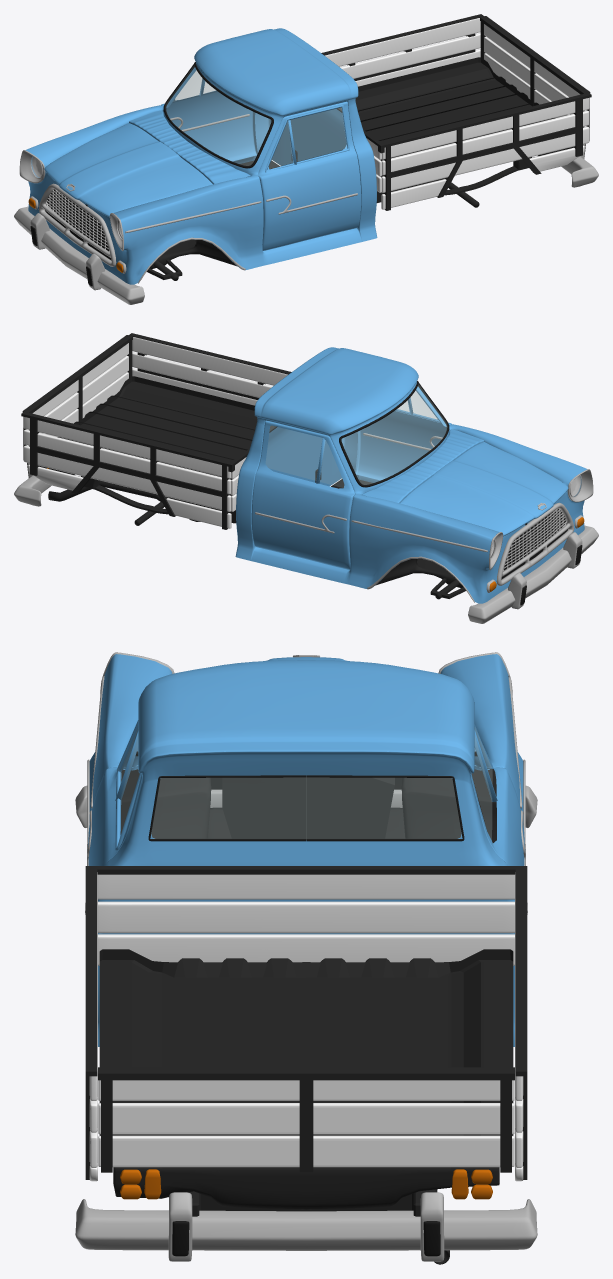
The model's file is Rastrojero03.glb.
3 views of the same model, one above another, from view 1: azimuth 30°, elevation 25°; view 2: azimuth 150°, elevation 25°; view 3: azimuth 270°, elevation 25° (orthographic). The views are drawn at different scales.
Visible parts, largest first — view 1: Pintura.001, Chapa, Madera, Vidrio, Metal.002, Metal.001, Goma, Metal.003; view 2: Pintura.001, Chapa, Madera, Vidrio, Metal.002, Metal.001, Goma, Metal.003; view 3: Chapa, Madera, Pintura.001, Metal.002, Vidrio, Goma, LucesReversa.
Part boxes in pixels (x1,y1,x2,y2): Pintura.001: (25,28,377,284); Chapa: (45,14,591,280); Madera: (325,18,589,209); Vidrio: (165,66,346,168); Metal.002: (14,114,598,304); Metal.001: (38,183,116,266); Goma: (30,62,585,286); Metal.003: (30,213,104,290); Pintura.001: (235,347,587,603); Chapa: (21,333,567,599); Madera: (23,337,287,528); Vidrio: (266,385,447,487); Metal.002: (14,433,598,623); Metal.001: (496,502,574,585); Goma: (27,381,582,605); Metal.003: (508,532,582,609); Chapa: (85,769,527,1264); Madera: (89,872,523,1181); Pintura.001: (87,654,525,1046); Metal.002: (75,652,537,1261); Vidrio: (120,728,492,839); Goma: (135,751,477,1256); LucesReversa: (144,1169,468,1199).
Bounding box in the file's own units: 4.64 × 1.44 × 1.88.
